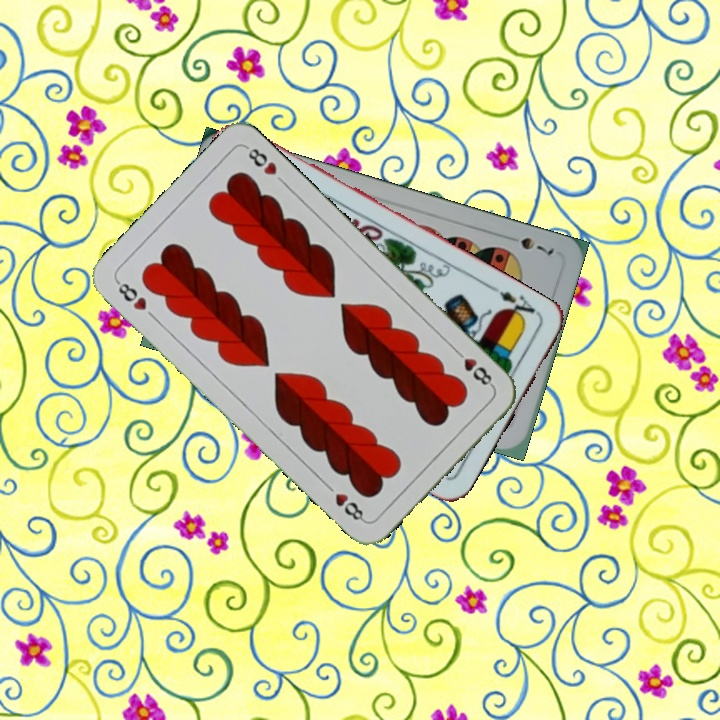EA: (488, 282, 543, 324)
H8: (450, 344, 496, 390), (112, 277, 149, 313)
S7: (516, 233, 557, 258)
